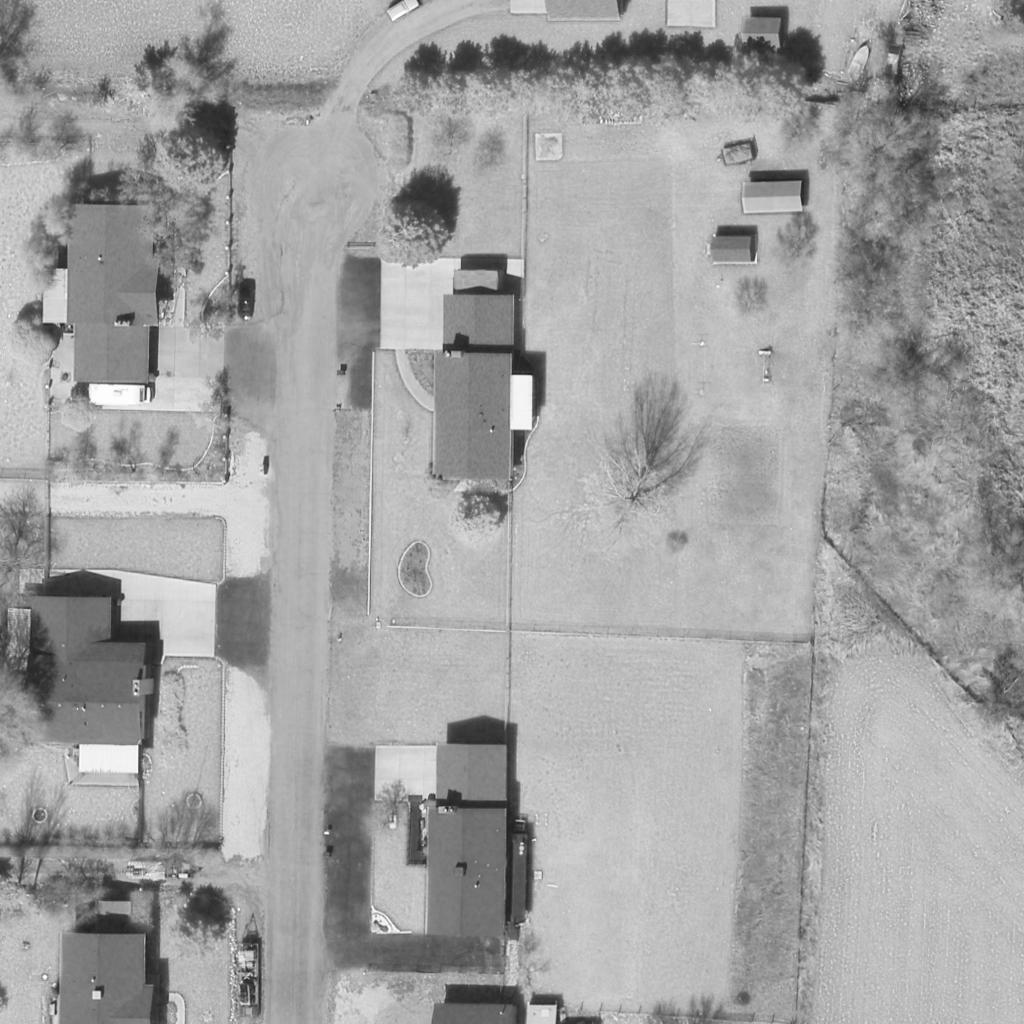vehicle: (89, 384, 153, 404), (847, 44, 873, 82), (238, 278, 258, 322), (386, 0, 422, 22)
